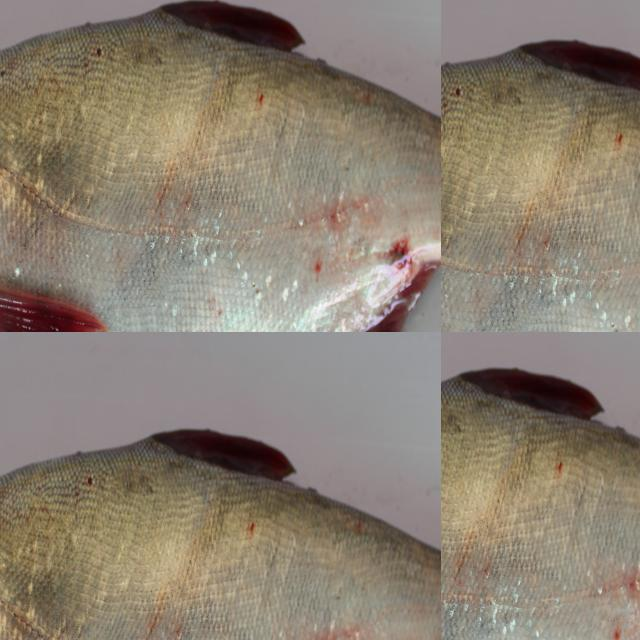fish: (441, 354, 640, 640)
